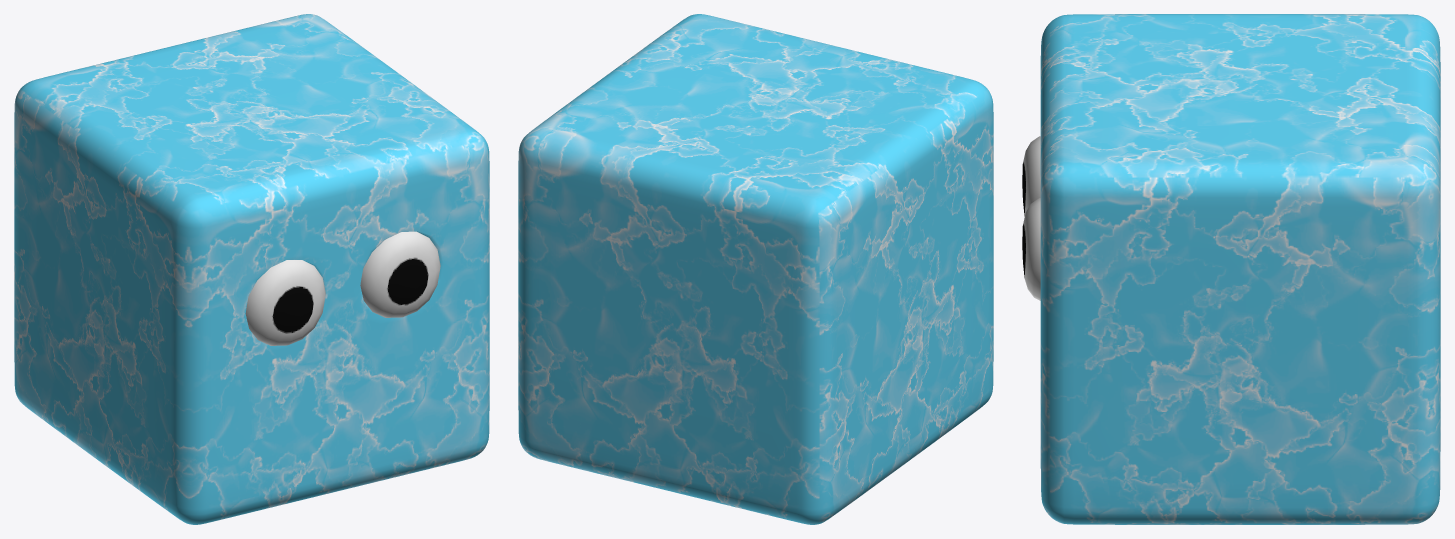
The model's file is icecube.fbx.
The picture shows the model from 3 angles, left to right: view 1: azimuth 30°, elevation 25°; view 2: azimuth 150°, elevation 25°; view 3: azimuth 270°, elevation 25°; orthographic projection. The views are drawn at different scales.
Visible parts, largest first — view 1: Cube_Baked; view 2: Cube_Baked; view 3: Cube_Baked.
Boxes of the visible parts, box(x1,y1,x2,y2) form: Cube_Baked: box(14, 14, 489, 524); Cube_Baked: box(518, 14, 993, 524); Cube_Baked: box(1022, 14, 1440, 524).
Size of the model in its own units: 200 by 200 by 209.
1 material, 1 textured.
